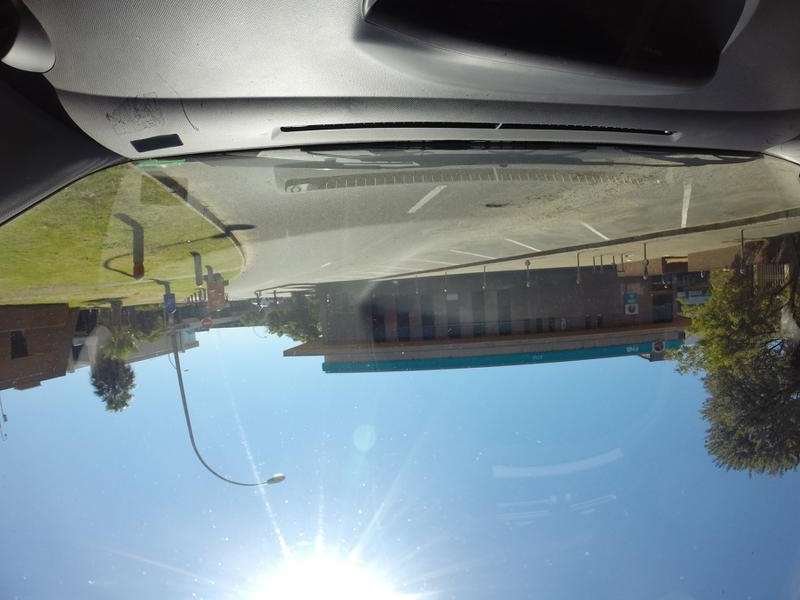pothole: (466, 197, 509, 211)
